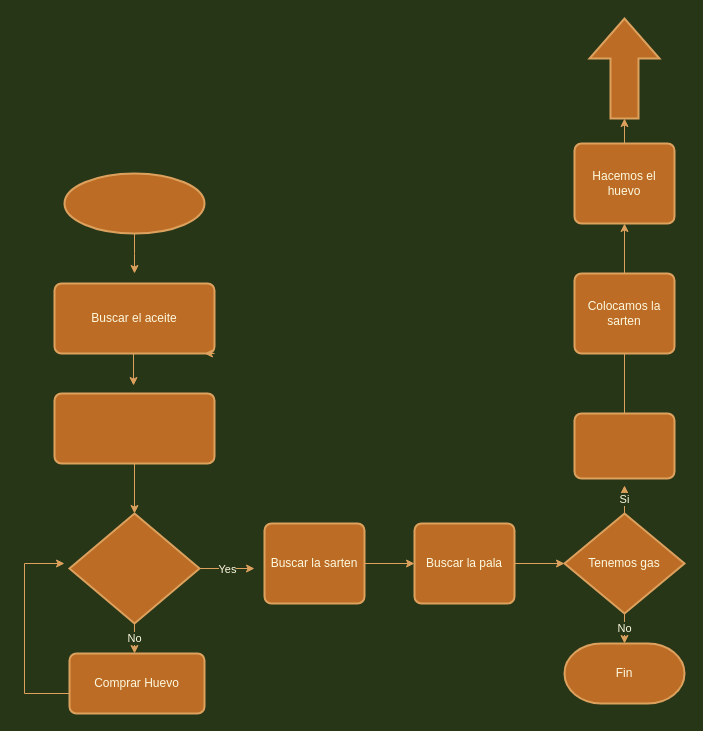
Image size: 703x731. Some labels were removed from this diagram. The centre of each missing label's shape, as x and y in pixels:
"Buscar sal y pinienta" belongs at point (134, 428).
"Encendemos el gas" belongs at point (624, 445).
"Hay Huevo ?" belongs at point (134, 568).
"Inicio" belongs at point (134, 203).
